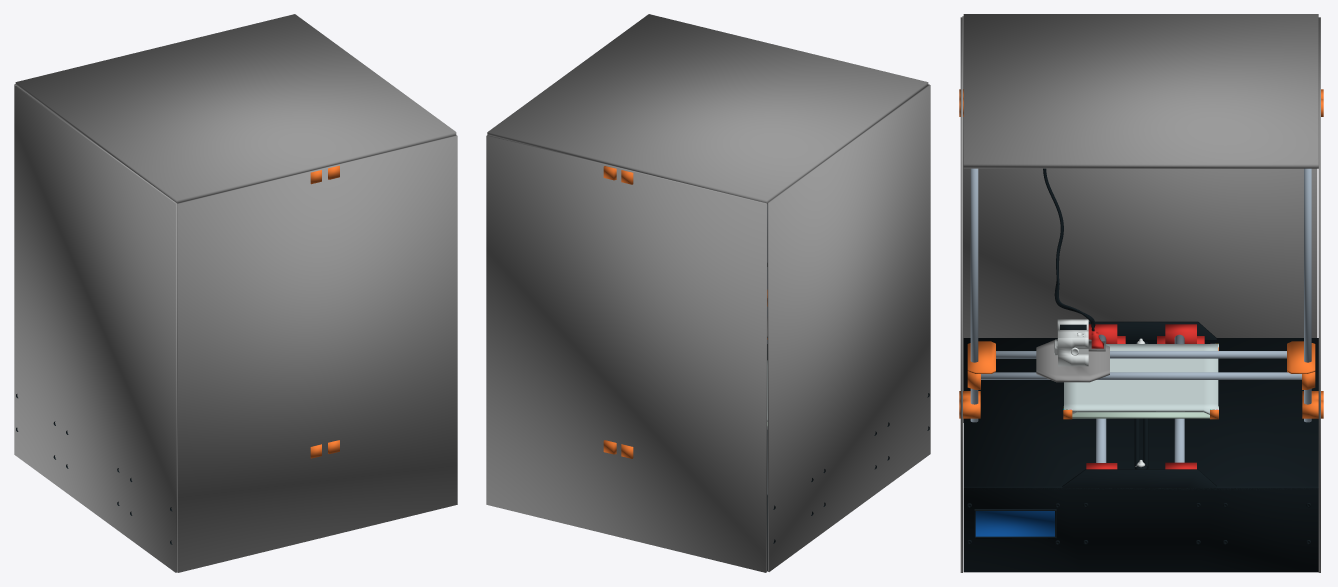
Rendered from Impresora3d_SofiaC_46645556.fbx.
3 renders of one model, left to right at view 1: azimuth 30°, elevation 25°; view 2: azimuth 150°, elevation 25°; view 3: azimuth 270°, elevation 25°, orthographic. The views are drawn at different scales.
Parts seen in each view (by area): view 1: Base; view 2: Base; view 3: Base.
Boxes of the visible parts, x1,y1,x2,y2 form: Base: (14,14,457,572); Base: (486,14,930,572); Base: (959,14,1323,572).
Bounding box in the file's own units: 70.78 × 88.27 × 71.29.
Materials: 2 (1 with a texture image).
